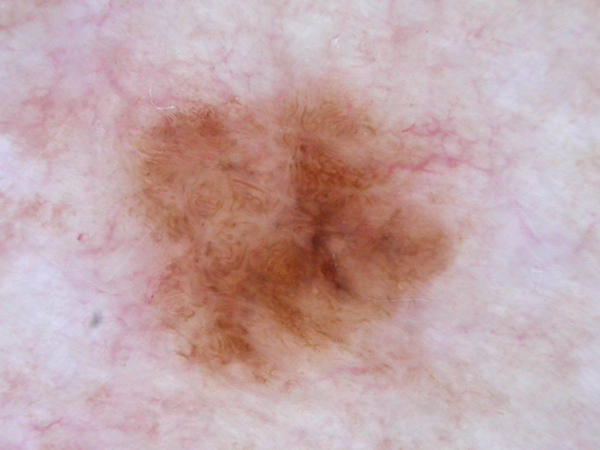Detected Lesion: (120, 82, 468, 387)
